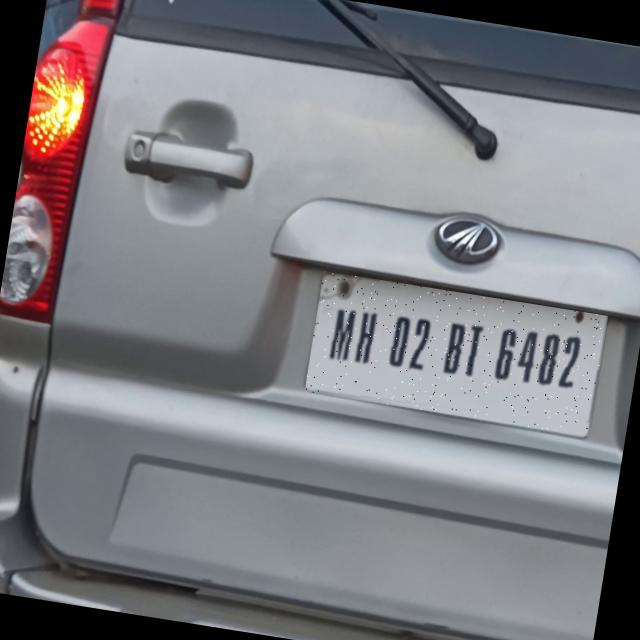Plate: (306, 272, 610, 438)
